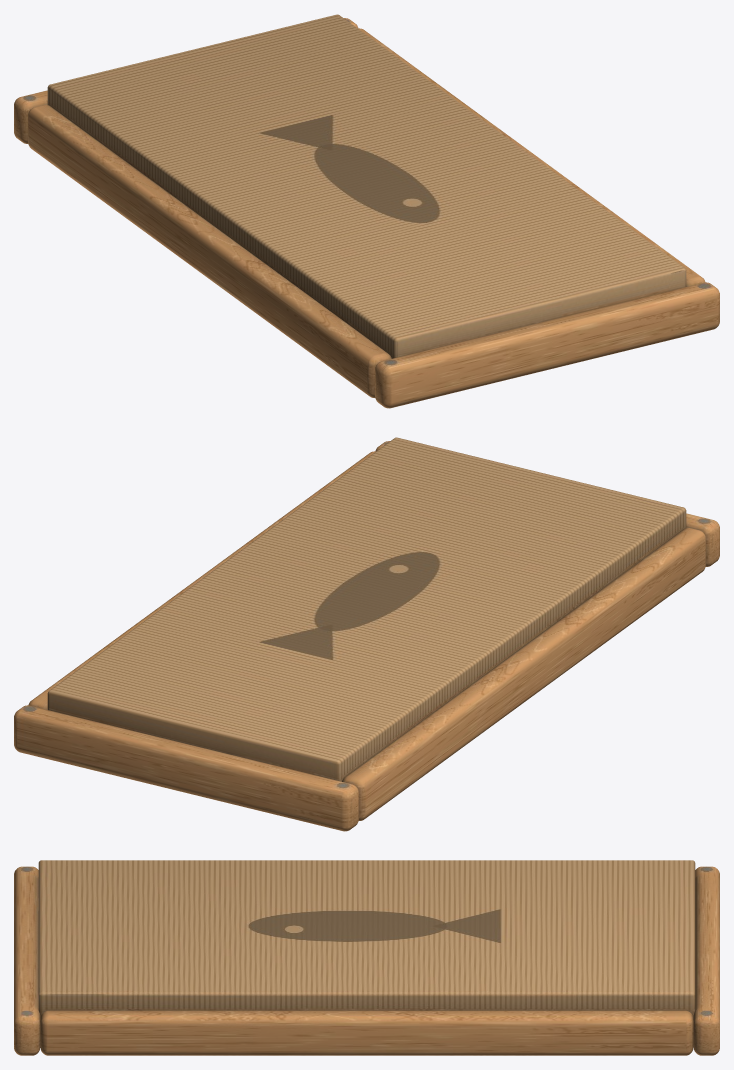
The model's file is scratcher.glb.
3 views of the same model, one above another, from view 1: azimuth 30°, elevation 25°; view 2: azimuth 150°, elevation 25°; view 3: azimuth 270°, elevation 25° (orthographic). The views are drawn at different scales.
Parts seen in each view (by area): view 1: scratcher; view 2: scratcher; view 3: scratcher.
Boxes of the visible parts, bbox=[...] form: scratcher: bbox=[14, 14, 719, 408]; scratcher: bbox=[14, 437, 719, 831]; scratcher: bbox=[14, 860, 719, 1055].
Bounding box in the file's own units: 0.416 × 0.0688 × 0.7998.
Materials: 1 (1 with a texture image).
